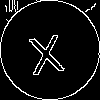X: (25, 25, 66, 75)
